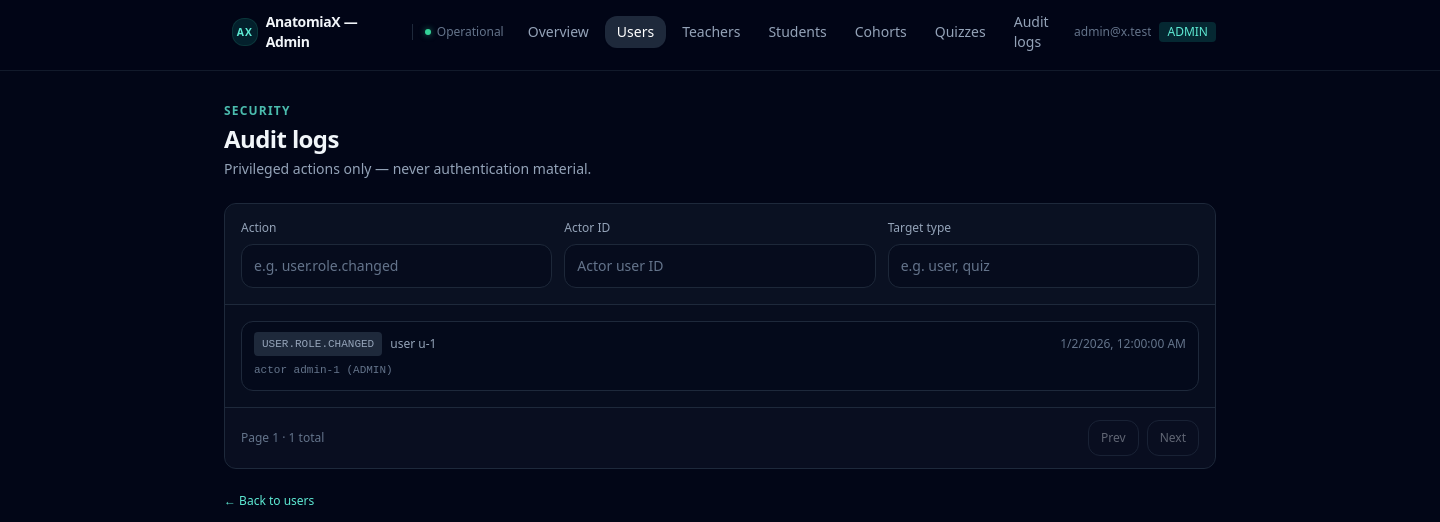
admin audit logs › lists entries without authentication material and paginates
Check: the list with test id "admin-audit-list" is shown, box [225,305,1215,407]
Check: the list item with test id "admin-audit-row" shows "user.role.changed", box [262,338,374,350]
Type "quiz." into the field with test id "admin-audit-action" at (397, 266), box [241,244,552,288]
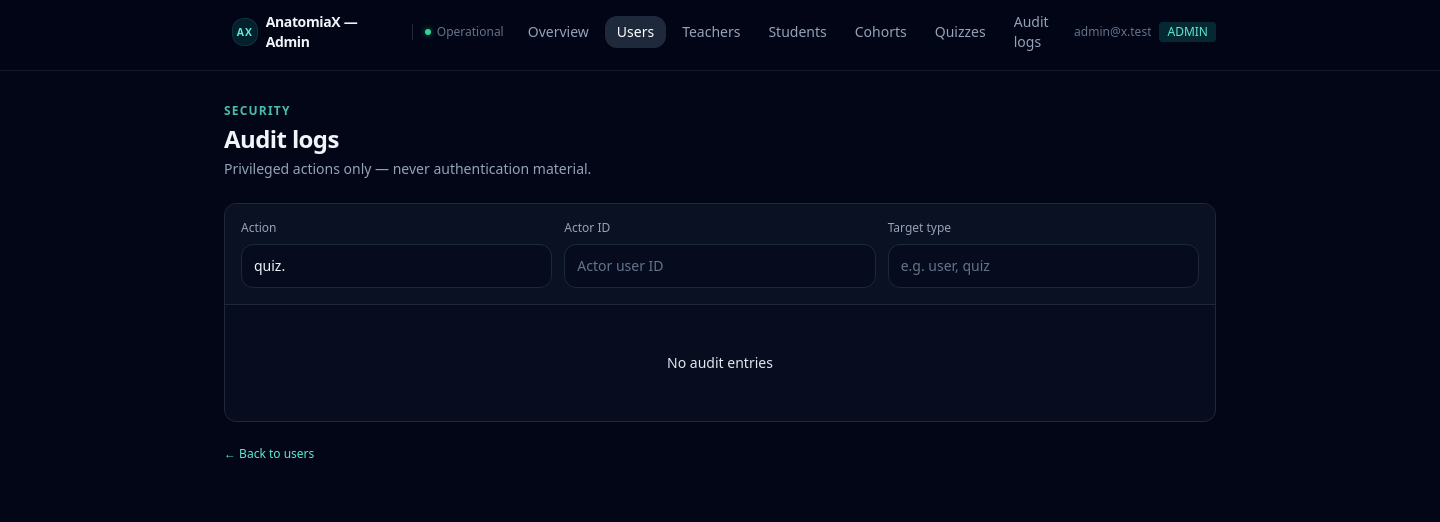
Check: the element with test id "admin-audit-empty" is shown, box [667,353,773,372]
